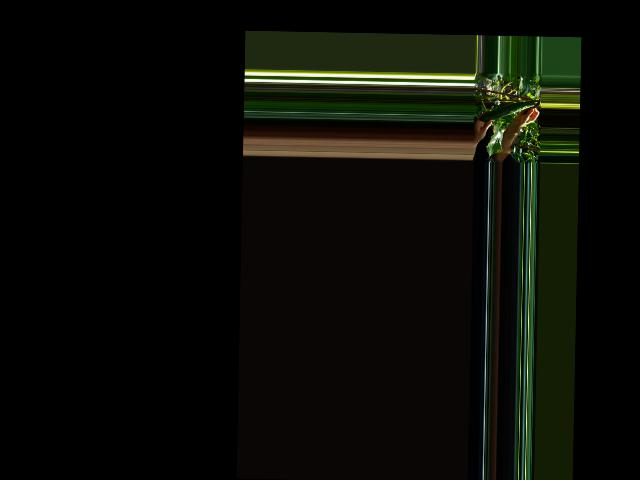cucumber: (479, 100, 534, 123)
